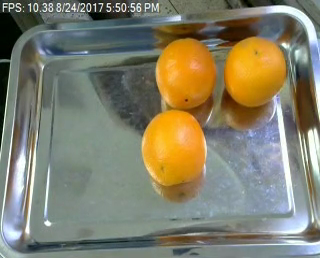Orange: (141, 109, 206, 185), (221, 37, 286, 109), (154, 39, 217, 109)
